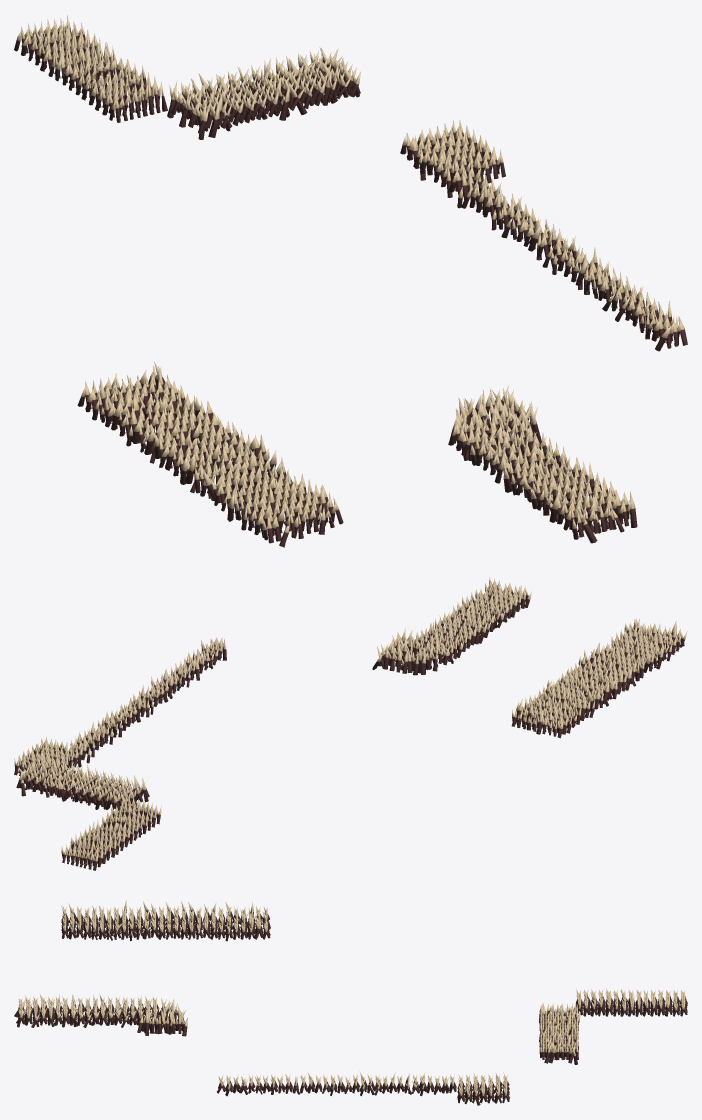
The model's file is SpikesGround.fbx.
The picture shows the model from 3 angles, top to bottom: view 1: azimuth 30°, elevation 25°; view 2: azimuth 150°, elevation 25°; view 3: azimuth 270°, elevation 25°; orthographic projection. The views are drawn at different scales.
Visible parts, largest first — view 1: Cylinder.010, Cylinder.009, Cylinder.006, Cylinder.008, Cylinder.003, Cylinder.007; view 2: Cylinder.010, Cylinder.009, Cylinder.008, Cylinder.006, Cylinder.003, Cylinder.007; view 3: Cylinder.010, Cylinder.009, Cylinder.008, Cylinder.003, Cylinder.006, Cylinder.007.
Boxes of the visible parts, bbox=[...] form: Cylinder.010: bbox=[77, 361, 343, 547]; Cylinder.009: bbox=[448, 385, 637, 543]; Cylinder.006: bbox=[167, 47, 360, 139]; Cylinder.008: bbox=[448, 164, 687, 351]; Cylinder.003: bbox=[14, 15, 167, 122]; Cylinder.007: bbox=[400, 120, 505, 197]; Cylinder.010: bbox=[511, 618, 687, 738]; Cylinder.009: bbox=[372, 577, 532, 675]; Cylinder.008: bbox=[70, 637, 226, 763]; Cylinder.006: bbox=[16, 755, 149, 810]; Cylinder.003: bbox=[61, 796, 161, 870]; Cylinder.007: bbox=[14, 737, 82, 775]; Cylinder.010: bbox=[61, 900, 270, 941]; Cylinder.009: bbox=[14, 994, 187, 1036]; Cylinder.008: bbox=[217, 1072, 456, 1096]; Cylinder.003: bbox=[576, 989, 687, 1016]; Cylinder.006: bbox=[539, 1003, 580, 1064]; Cylinder.007: bbox=[457, 1073, 509, 1105].
Size of the model in its own units: 492 by 68.11 by 861.
